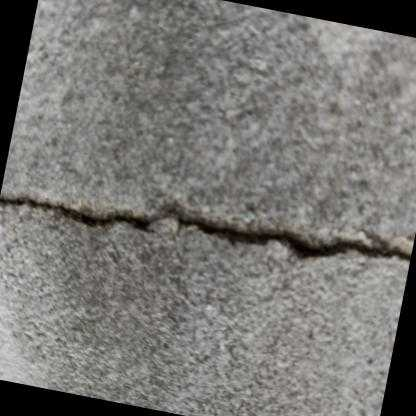crack: (0, 193, 411, 260)
